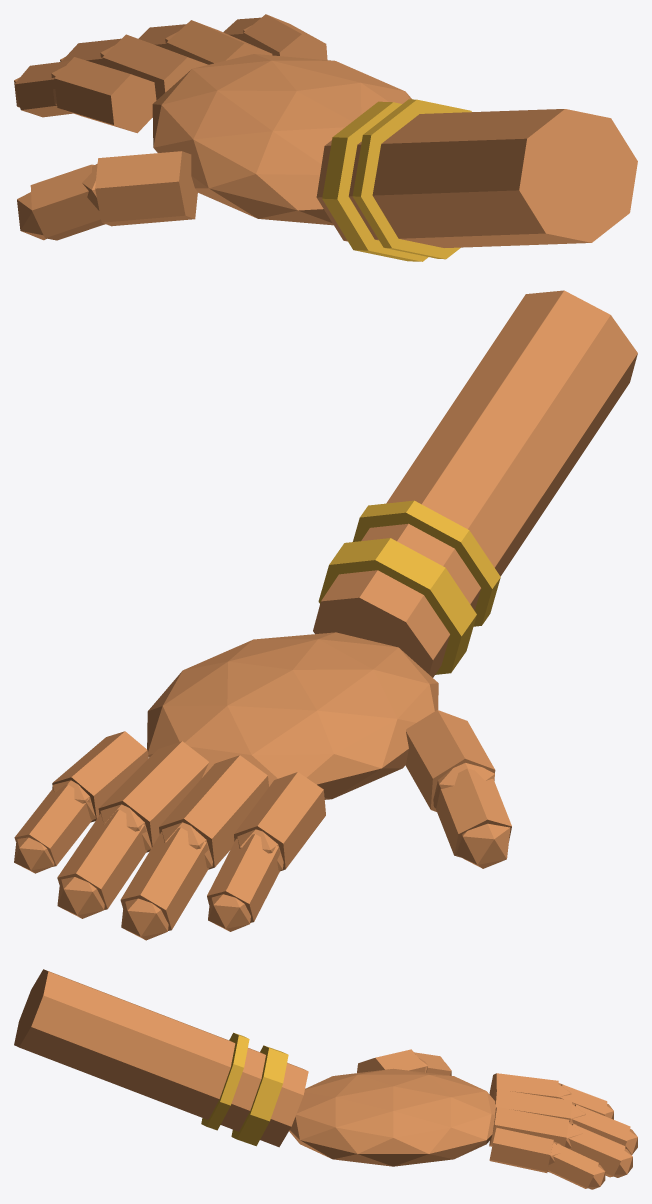
Rendered from hand_open.glb.
3 renders of one model, top to bottom at view 1: azimuth 30°, elevation 25°; view 2: azimuth 150°, elevation 25°; view 3: azimuth 270°, elevation 25°, orthographic. The views are drawn at different scales.
Visible parts, largest first — view 1: part, part.003, part.020, part.004, part.001, part.002, part.022, part.008, part.012, part.016, part.006, part.010 (+4 smaller); view 2: part, part.003, part.001, part.008, part.012, part.010, part.004, part.020, part.002, part.014, part.016, part.022 (+7 smaller); view 3: part, part.003, part.001, part.016, part.012, part.008, part.014, part.002, part.018, part.004, part.010, part.020 (+3 smaller).
Boxes of the visible parts, x1,y1,x2,y2 form: part: (316, 109, 637, 247); part.003: (152, 54, 411, 225); part.020: (95, 151, 197, 226); part.004: (54, 57, 156, 133); part.001: (322, 101, 428, 261); part.002: (352, 99, 471, 259); part.022: (30, 164, 104, 240); part.008: (102, 34, 208, 100); part.012: (166, 20, 272, 64); part.016: (243, 14, 327, 59); part.006: (14, 60, 72, 117); part.010: (61, 38, 121, 65); part: (313, 290, 637, 677); part.003: (147, 632, 438, 799); part.001: (318, 538, 476, 674); part.008: (159, 755, 268, 869); part.012: (98, 741, 208, 852); part.010: (120, 827, 208, 930); part.004: (234, 772, 325, 871); part.020: (405, 710, 495, 811); part.002: (353, 500, 500, 626); part.014: (57, 809, 147, 909); part.016: (52, 731, 148, 822); part.022: (435, 768, 511, 857); part: (14, 969, 308, 1147); part.003: (289, 1068, 496, 1166); part.001: (231, 1045, 288, 1146); part.016: (489, 1127, 553, 1172); part.012: (489, 1107, 569, 1146); part.008: (493, 1089, 571, 1121); part.014: (568, 1124, 625, 1177); part.002: (201, 1032, 249, 1130); part.018: (547, 1143, 598, 1188); part.004: (489, 1073, 558, 1098); part.010: (572, 1104, 630, 1145); part.020: (357, 1049, 425, 1072).
Bounding box in the file's own units: 2.57 × 2.08 × 5.94.
